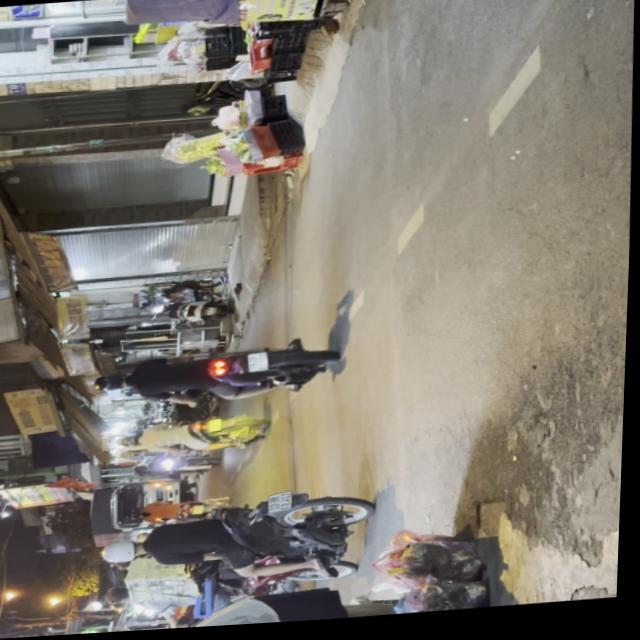helmet: (103, 537, 148, 564), (94, 370, 131, 391)
licenseplate: (99, 486, 381, 596), (93, 337, 340, 411)
nohelmet: (271, 494, 294, 517), (248, 354, 270, 374)
